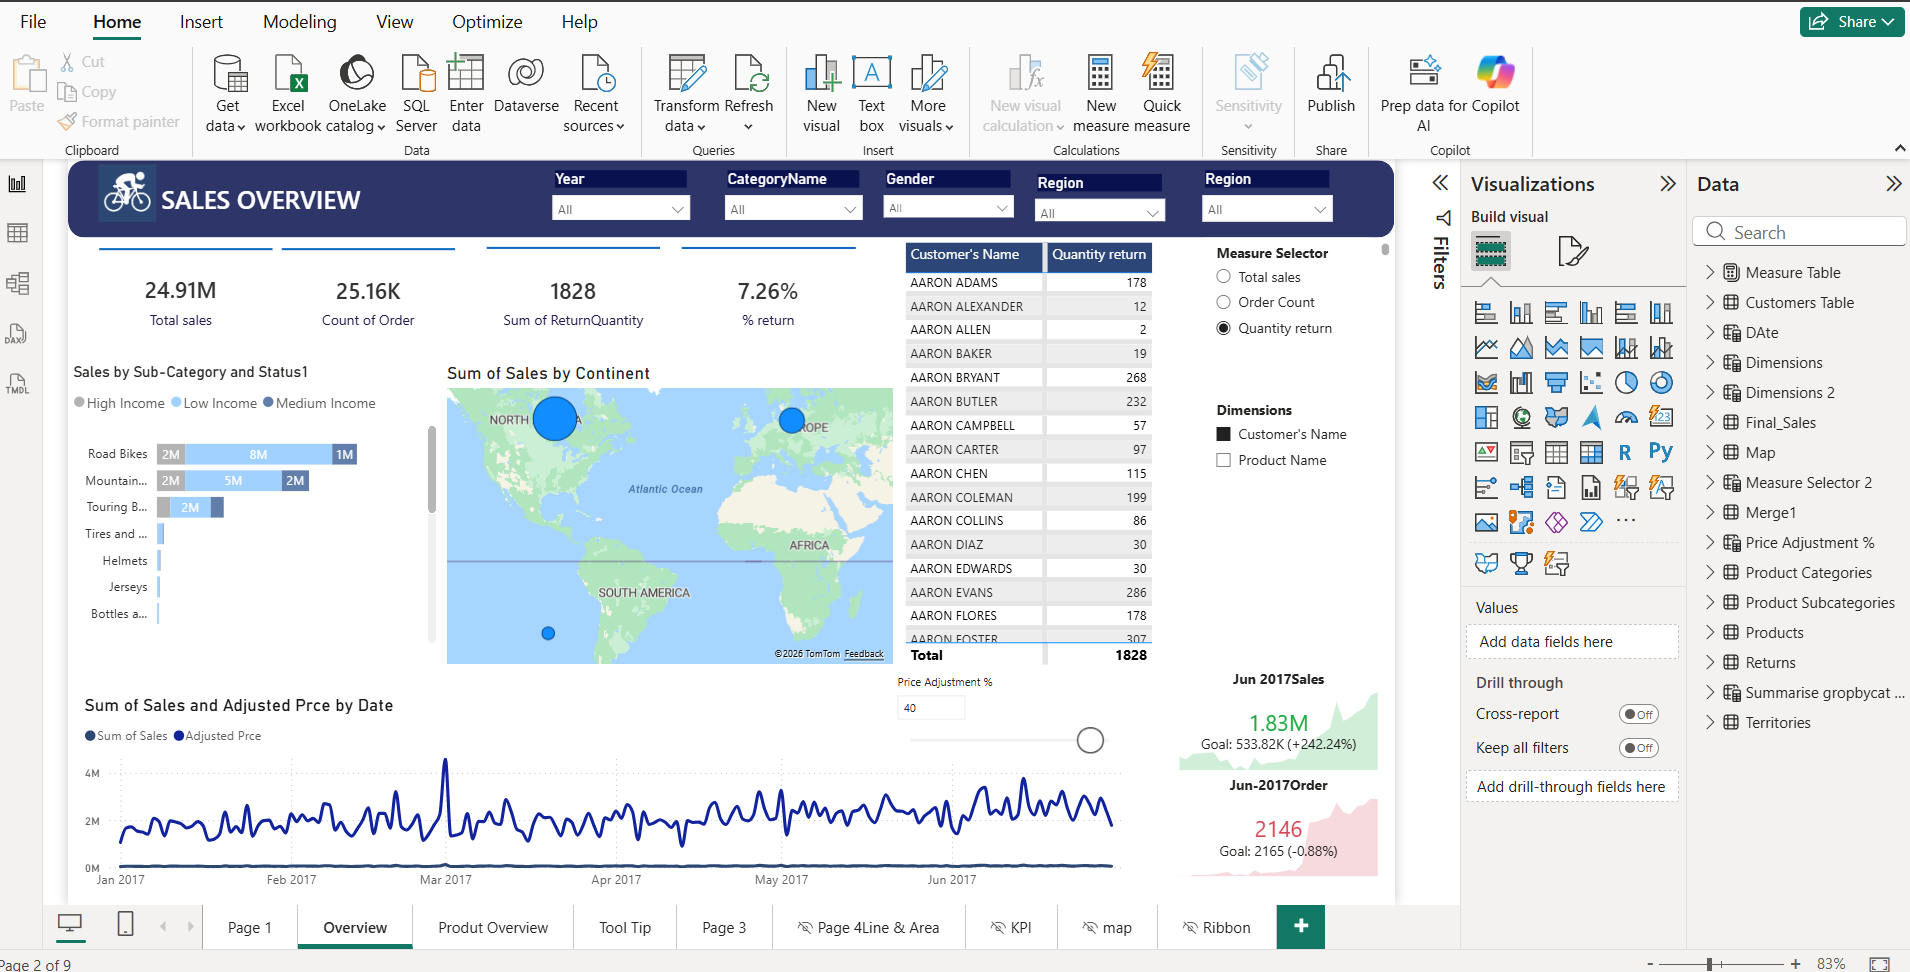

The dashboard page shown, as its layout file describes it:
{"tool":"powerbi","page":{"name":"Overview","canvas":[1280,720],"ordinal":1},"visuals":[{"type":"tableEx","fields":{"Values":["Customers Table.Full Name","Measure Table.Quantity return"]},"box":[802.1,75.4,478.5,416.8],"z":0},{"type":"card","title":"Sales Card","fields":{"Values":["Measure Table.Total sales"]},"box":[20.5,92.3,177,87.8],"z":1000,"group":"g1"},{"type":"lineChart","fields":{"Category":["CALENDAR.Date"],"Y":["Sum(Final_Sales.Sales)","Measure Table.Adjusted Prce"]},"box":[11,516.9,1025.5,197.4],"z":1000},{"type":"shape","box":[0,1.2,1280,74.8],"z":2000},{"type":"group","id":"g1","title":"Cards","box":[20.5,79.6,739.5,100.1],"z":3000},{"type":"card","fields":{"Values":["Count(Merge1.OrderNumber)"]},"box":[205.7,93.7,167.4,86.4],"z":3000,"group":"g1"},{"type":"barChart","title":"Sales by Sub-Category and Status1","fields":{"Category":["Product Subcategories.SubcategoryName"],"Y":["Measure Table.Total sales"],"Series":["Customers Table.Status1"]},"box":[0,196.1,360.6,275.6],"z":4000},{"type":"slicer","fields":{"Values":["Product Categories.CategoryName"]},"box":[623.7,6,153.2,53.1],"z":5000},{"type":"card","title":"Return Card","fields":{"Values":["Sum(Returns.ReturnQuantity)"]},"box":[404.7,93.7,167.4,86.4],"z":5000,"group":"g1"},{"type":"card","title":"% Return Card","fields":{"Values":["Measure Table.% return"]},"box":[592.7,93.7,167.4,86.4],"z":5500,"group":"g1"},{"type":"slicer","fields":{"Values":["Customers Table.Gender"]},"box":[776.9,6,146,50.7],"z":6000},{"type":"shape","title":"Line Shape","box":[404.7,80,167.4,12.3],"z":6000,"group":"g1"},{"type":"shape","title":"Line Shape","box":[205.7,81.3,167.4,12.3],"z":6500,"group":"g1"},{"type":"slicer","fields":{"Values":["Territories.Region"]},"box":[1084.6,6,146,56.7],"z":7000},{"type":"shape","title":"Line Shape","box":[30.5,80.4,167.4,12.3],"z":7000,"group":"g1"},{"type":"slicer","fields":{"Values":["Territories.Region"]},"box":[922.9,9.7,146,50.7],"z":8000},{"type":"image","box":[20.6,0,74.1,65.9],"z":9000},{"type":"shape","title":"Line Shape","box":[592.4,79.6,168.3,12.5],"z":9000,"group":"g1"},{"type":"slicer","fields":{"Values":["CALENDAR.Date"]},"box":[457.2,6,153.2,53.1],"z":10000},{"type":"azureMap","fields":{"Category":["Territories.Continent","Territories.Country","Territories.Region"],"Size":["Sum(Final_Sales.Sales)"]},"box":[360.6,196.1,441.5,296.1],"z":11000},{"type":"slicer","fields":{"Values":["Price Adjustment %.Price Adjustment %"]},"box":[792.5,492.2,234.4,87.7],"z":12000},{"type":"kpi","fields":{"Indicator":["Sum(Final_Sales.Sales)"],"Goal":["Measure Table.Prev yr sales"],"TrendLine":["DAte.Year month"]},"box":[1068,492.2,201.5,102.8],"z":13000},{"type":"kpi","fields":{"TrendLine":["DAte.Year month"],"Goal":["Measure Table.Prev mon order"],"Indicator":["Count(Final_Sales.OrderNumber)"]},"box":[1068,595,201.5,102.8],"z":14000},{"type":"slicer","fields":{"Values":["Measure Selector 2.Measure Selector"]},"box":[1095.5,75.4,161.8,161.8],"z":15000},{"type":"slicer","fields":{"Values":["Dimensions 2.Dimensions"]},"box":[1095.5,227.6,170,111.1],"z":16001}]}

Visuals, with their boxes on the page's 1280x720 design canvas (x1, y1, x2, y2). These are canvas units, not pixel positions in the 1910x972 screenshot, which may show the page scaled, cropped or inside an application window:
tableEx - Customers Table.Full Name x Measure Table.Quantity return: [x1=802, y1=75, x2=1281, y2=492]
"Sales Card" card: [x1=20, y1=92, x2=198, y2=180]
lineChart - CALENDAR.Date x Sum(Final_Sales.Sales): [x1=11, y1=517, x2=1036, y2=714]
shape: [x1=0, y1=1, x2=1280, y2=76]
"Cards" group: [x1=20, y1=80, x2=760, y2=180]
card - Count(Merge1.OrderNumber): [x1=206, y1=94, x2=373, y2=180]
"Sales by Sub-Category and Status1" barChart: [x1=0, y1=196, x2=361, y2=472]
slicer - Product Categories.CategoryName: [x1=624, y1=6, x2=777, y2=59]
"Return Card" card: [x1=405, y1=94, x2=572, y2=180]
"% Return Card" card: [x1=593, y1=94, x2=760, y2=180]
slicer - Customers Table.Gender: [x1=777, y1=6, x2=923, y2=57]
"Line Shape" shape: [x1=405, y1=80, x2=572, y2=92]
"Line Shape" shape: [x1=206, y1=81, x2=373, y2=94]
slicer - Territories.Region: [x1=1085, y1=6, x2=1231, y2=63]
"Line Shape" shape: [x1=30, y1=80, x2=198, y2=93]
slicer - Territories.Region: [x1=923, y1=10, x2=1069, y2=60]
image: [x1=21, y1=0, x2=95, y2=66]
"Line Shape" shape: [x1=592, y1=80, x2=761, y2=92]
slicer - CALENDAR.Date: [x1=457, y1=6, x2=610, y2=59]
azureMap - Territories.Continent x Territories.Country: [x1=361, y1=196, x2=802, y2=492]
slicer - Price Adjustment %.Price Adjustment %: [x1=792, y1=492, x2=1027, y2=580]
kpi - Sum(Final_Sales.Sales) x Measure Table.Prev yr sales: [x1=1068, y1=492, x2=1270, y2=595]
kpi - DAte.Year month x Measure Table.Prev mon order: [x1=1068, y1=595, x2=1270, y2=698]
slicer - Measure Selector 2.Measure Selector: [x1=1096, y1=75, x2=1257, y2=237]
slicer - Dimensions 2.Dimensions: [x1=1096, y1=228, x2=1266, y2=339]
